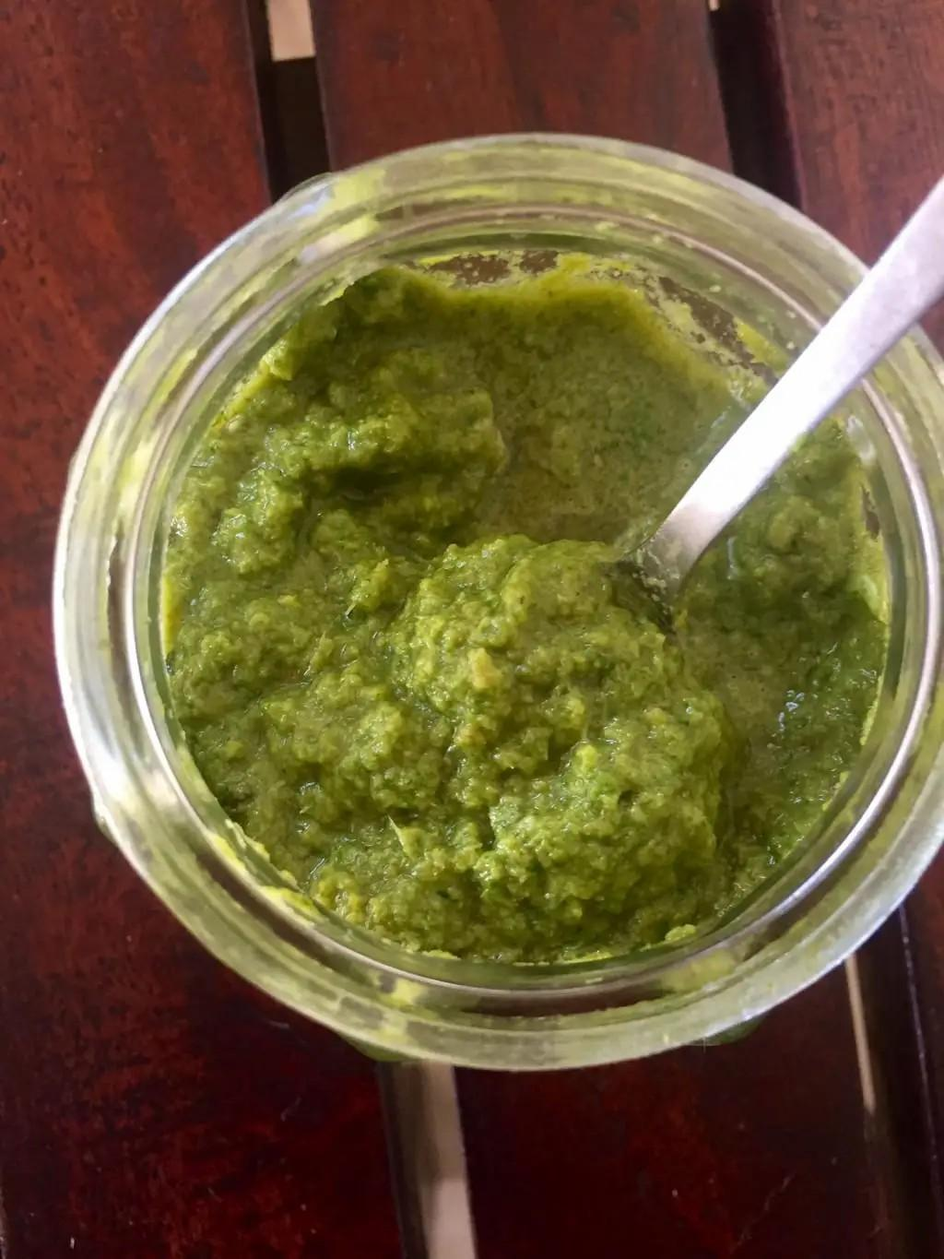GreenChutney: (161, 278, 895, 975)
